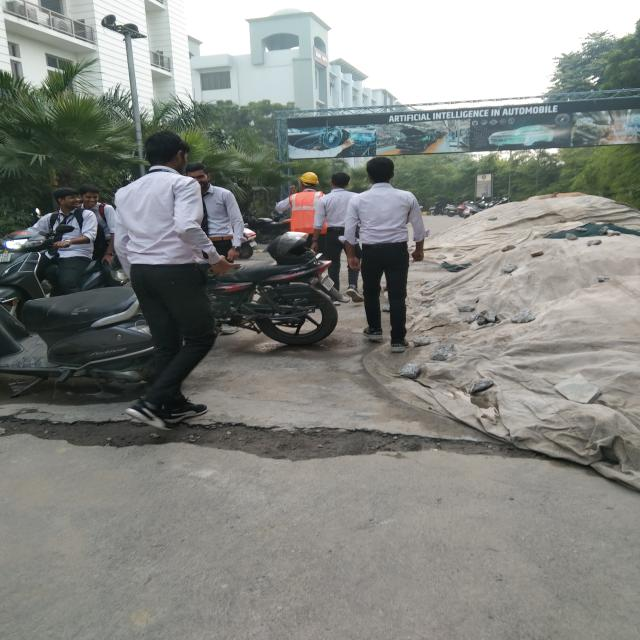safe: (280, 169, 327, 244)
unsafe: (103, 135, 210, 415), (344, 157, 426, 353), (30, 182, 90, 296), (322, 171, 365, 305), (190, 160, 246, 260)
